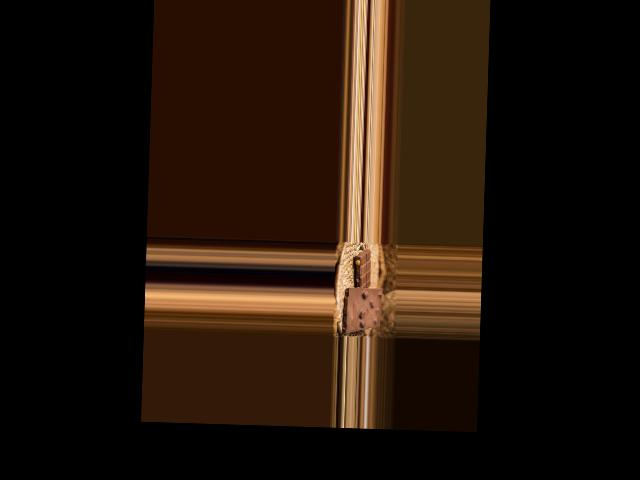chocolate: (342, 284, 383, 334)
